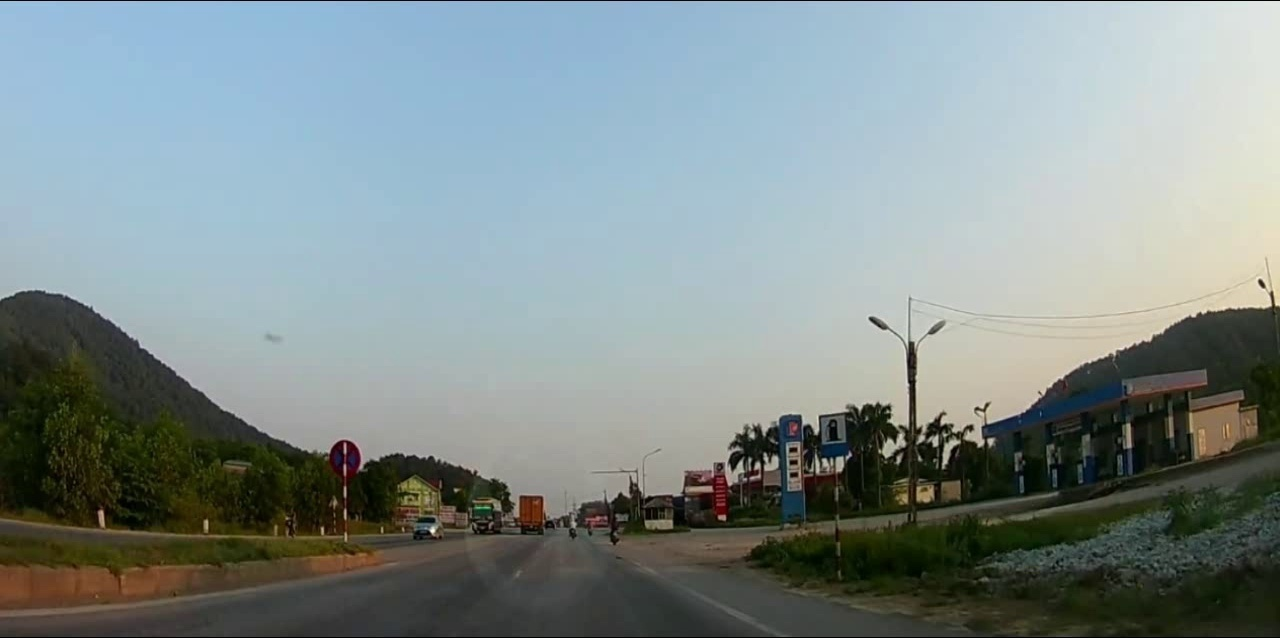Bien khac: (818, 410, 850, 460)
